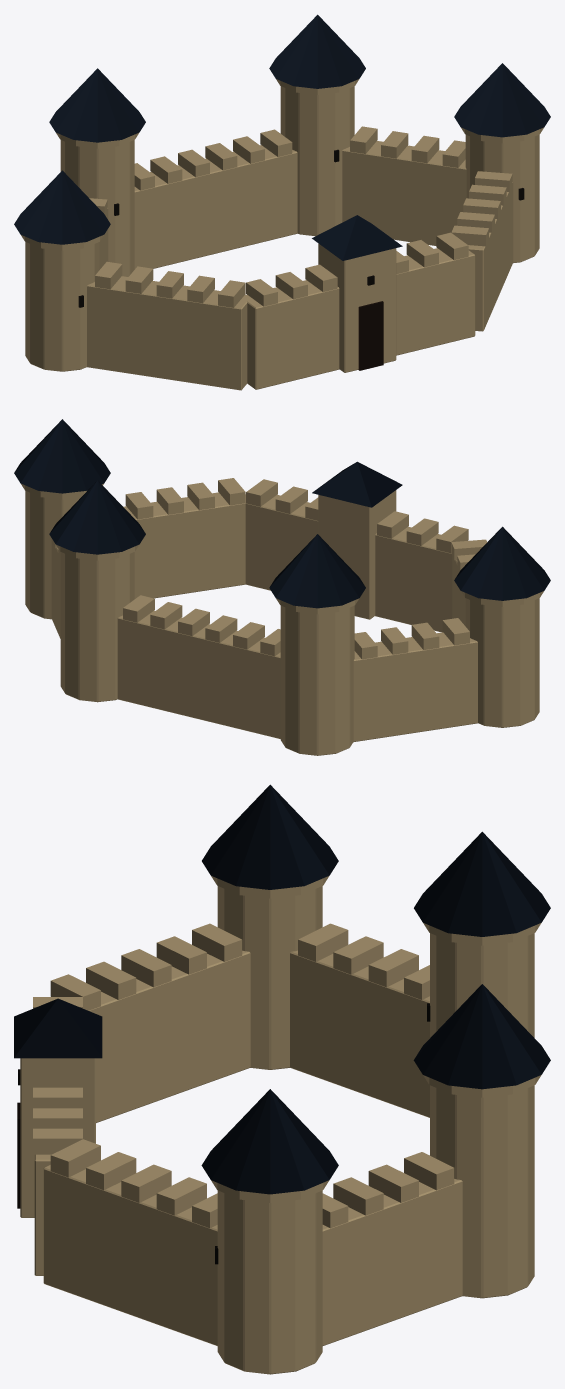
File: walls_3.obj
3 views of the same model, one above another, from view 1: azimuth 30°, elevation 25°; view 2: azimuth 150°, elevation 25°; view 3: azimuth 270°, elevation 25° (orthographic). The views are drawn at different scales.
Parts seen in each view (by area): view 1: core_stone, core_team, core_wood_dark; view 2: core_stone, core_team; view 3: core_stone, core_team.
Part boxes in pixels (<box>): core_stone: <box>21,79,543,390</box>; core_team: <box>14,14,550,260</box>; core_wood_dark: <box>358,301,383,370</box>; core_stone: <box>21,478,543,755</box>; core_team: <box>14,419,550,608</box>; core_stone: <box>20,875,541,1374</box>; core_team: <box>14,784,550,1194</box>.
Size of the model in its own units: 2 by 0.7539 by 1.25.
